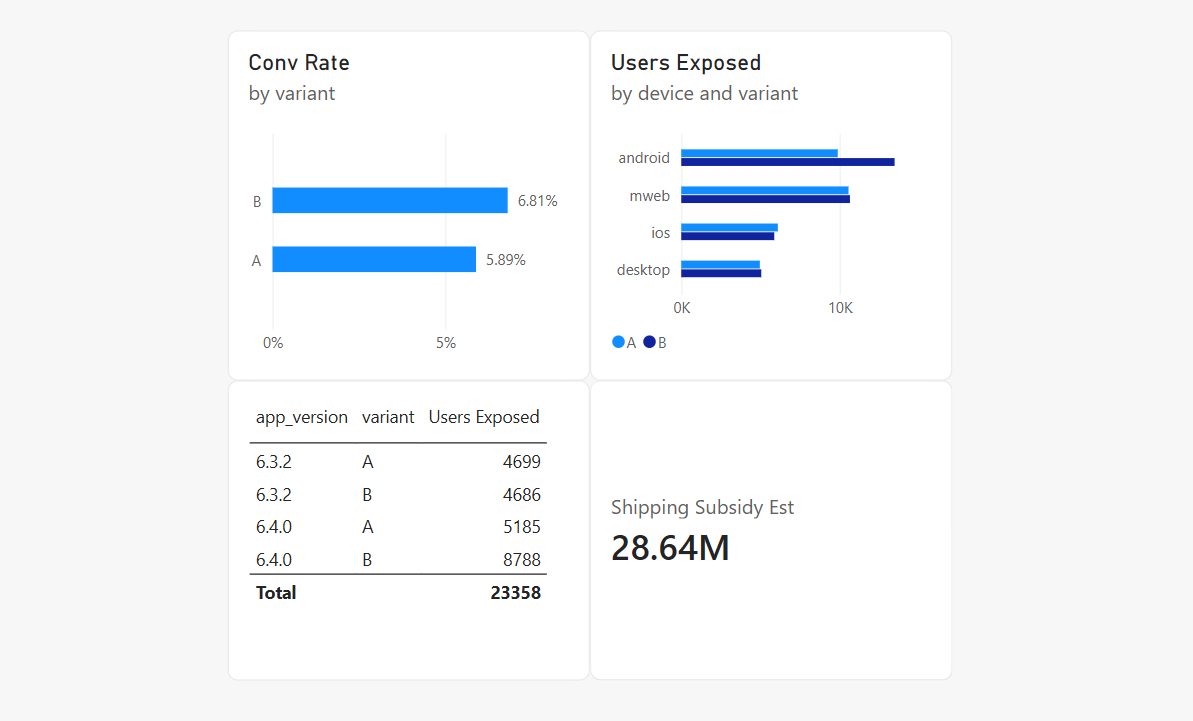

Layout of this report page (visuals, bound fields, positions):
{"tool":"powerbi","page":{"name":"A/B Experiment","canvas":[1920,1080],"ordinal":1},"visuals":[{"type":"clusteredBarChart","fields":{"Category":["fct_ab_users.variant"],"Y":["fct_ab_users.Conv Rate"]},"box":[411,26,290,280],"z":0},{"type":"clusteredBarChart","fields":{"Category":["fct_ab_users.device"],"Series":["fct_ab_users.variant"],"Y":["fct_ab_users.Users Exposed"]},"box":[701,26,290,280],"z":1000},{"type":"tableEx","fields":{"Values":["fct_ab_users.app_version","fct_ab_users.variant","fct_ab_users.Users Exposed"]},"box":[411.2,305.6,290,240],"z":2000},{"type":"cardVisual","fields":{"Data":["fct_ab_users.Shipping Subsidy Est"]},"box":[701.2,305.6,290,240],"z":3000}]}

Visuals, with their boxes on the page's 1920x1080 design canvas (x1, y1, x2, y2). These are canvas units, not pixel positions in the 1193x721 screenshot, which may show the page scaled, cropped or inside an application window:
clusteredBarChart - fct_ab_users.variant x fct_ab_users.Conv Rate: {"x1": 411, "y1": 26, "x2": 701, "y2": 306}
clusteredBarChart - fct_ab_users.device x fct_ab_users.variant: {"x1": 701, "y1": 26, "x2": 991, "y2": 306}
tableEx - fct_ab_users.app_version x fct_ab_users.variant: {"x1": 411, "y1": 306, "x2": 701, "y2": 546}
cardVisual - fct_ab_users.Shipping Subsidy Est: {"x1": 701, "y1": 306, "x2": 991, "y2": 546}
